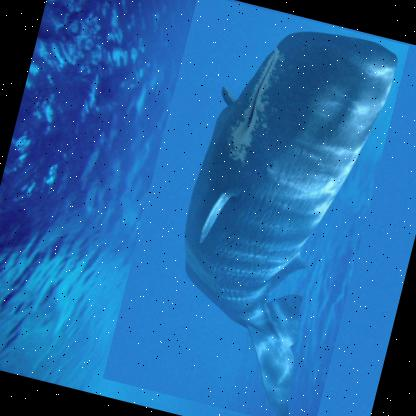sperm_whale: (101, 0, 410, 415)
